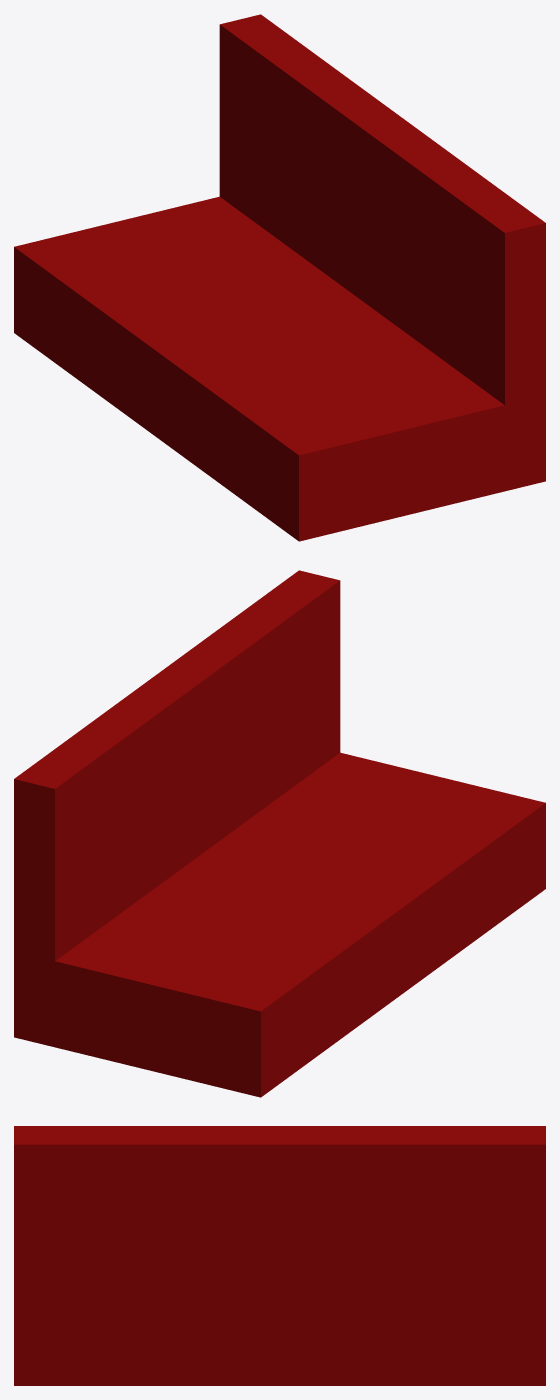
File: SM_Ledge_1x2x1.gltf
3 renders of one model, top to bottom at view 1: azimuth 30°, elevation 25°; view 2: azimuth 150°, elevation 25°; view 3: azimuth 270°, elevation 25°, orthographic. The views are drawn at different scales.
Parts seen in each view (by area): view 1: SM_Ledge_1x2x1; view 2: SM_Ledge_1x2x1; view 3: SM_Ledge_1x2x1.
Part boxes in pixels (left/top/right/bottom): SM_Ledge_1x2x1: left=14, top=14, right=545, bottom=541; SM_Ledge_1x2x1: left=14, top=570, right=545, bottom=1097; SM_Ledge_1x2x1: left=14, top=1126, right=545, bottom=1385.
Size of the model in its own units: 0.3 by 0.3 by 0.6.
